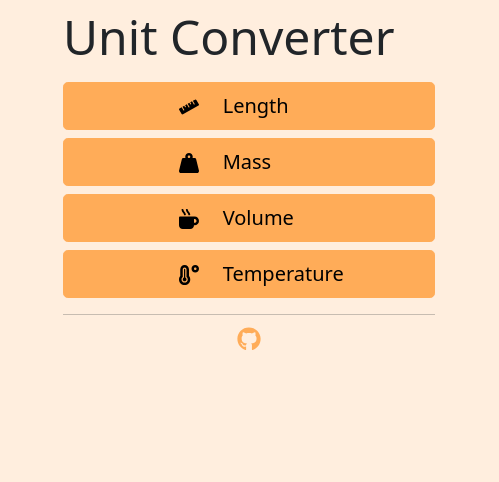
it: typing `1234` renders as `1,234` correctly
Click the button "Length": [249, 106] box [63,82,435,130]
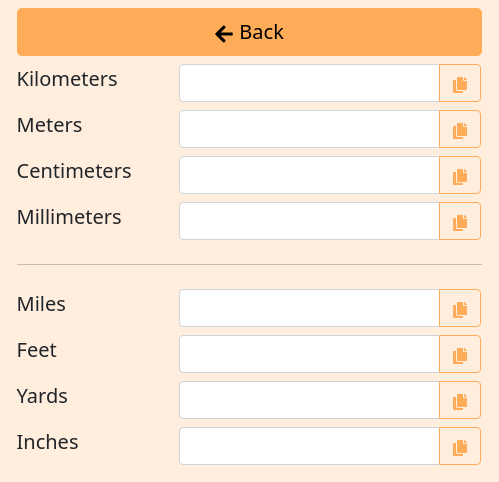
In the field labelled "Kilometers": [310, 83] box [180,64,440,102], type "1234"
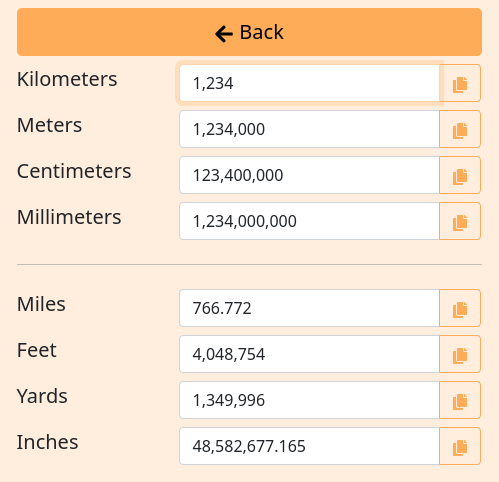
Result: the field labelled "Kilometers" holds "1,234" at [180,64,440,102]
